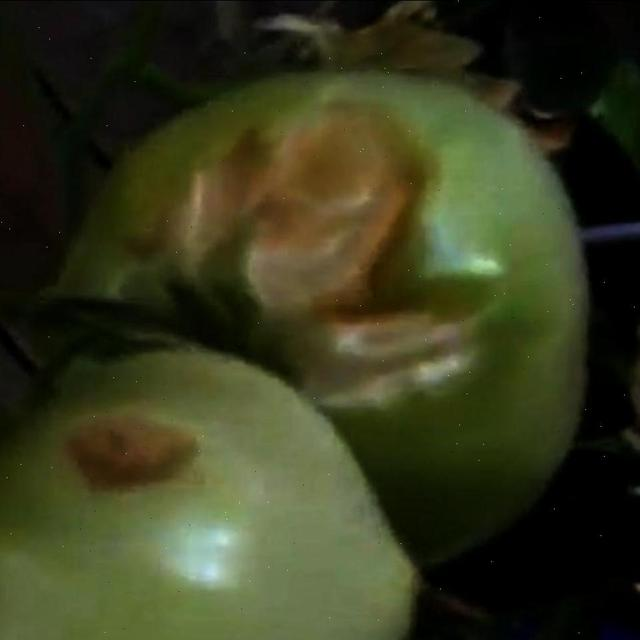Sunscald Fruit: (90, 70, 264, 301)
